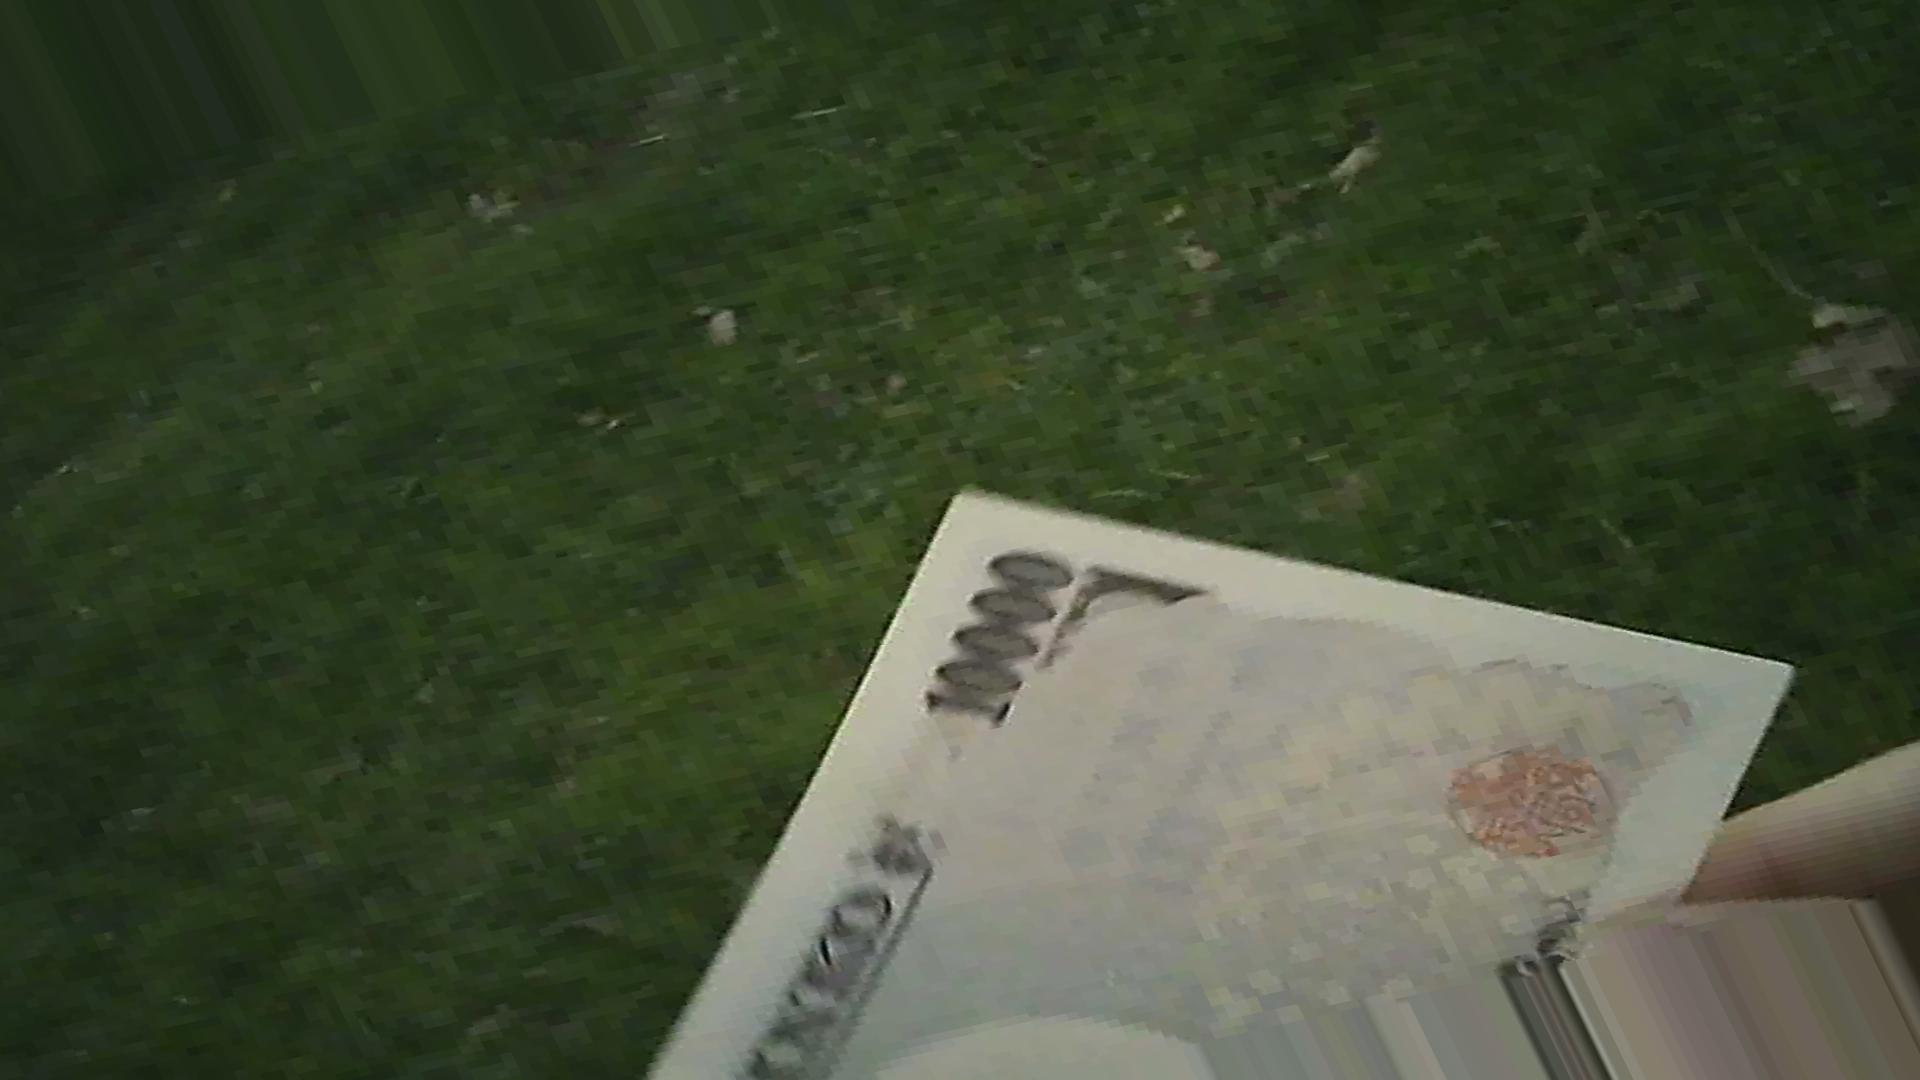10,000 Yen: (674, 440, 1759, 1060)
